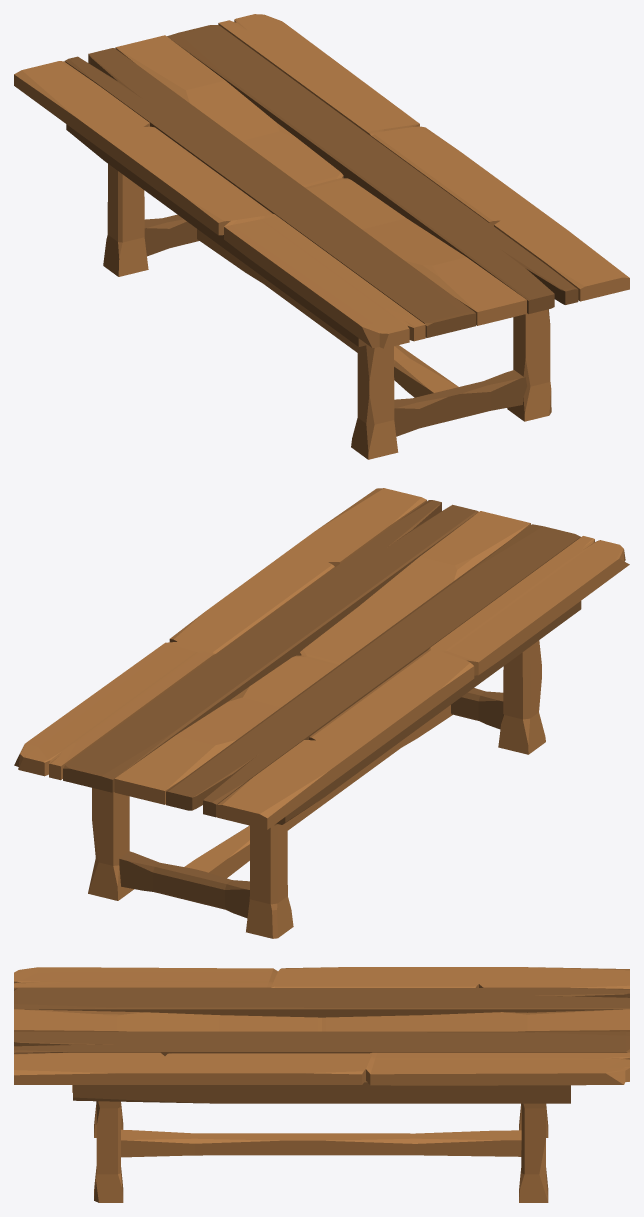
File: Low Poly Table.fbx
The picture shows the model from 3 angles, top to bottom: view 1: azimuth 30°, elevation 25°; view 2: azimuth 150°, elevation 25°; view 3: azimuth 270°, elevation 25°; orthographic projection. The views are drawn at different scales.
Visible parts, largest first — view 1: Low Poly Table; view 2: Low Poly Table; view 3: Low Poly Table.
Boxes of the visible parts, bbox=[...] form: Low Poly Table: bbox=[14, 14, 629, 459]; Low Poly Table: bbox=[14, 488, 629, 938]; Low Poly Table: bbox=[14, 967, 629, 1202].
Size of the model in its own units: 134 by 84.38 by 331.
